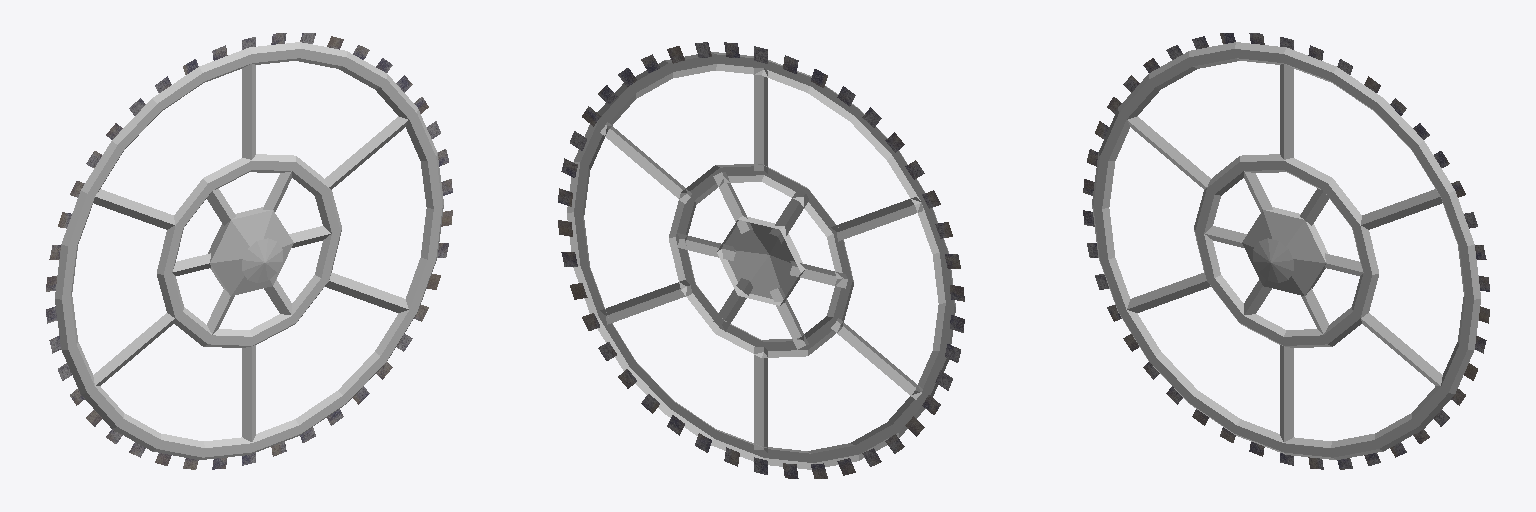
The picture shows the model from 3 angles: view 1: azimuth 30°, elevation 25°; view 2: azimuth 150°, elevation 25°; view 3: azimuth 330°, elevation 25°; orthographic projection.
Parts seen in each view (by area): view 1: Plane; view 2: Plane; view 3: Plane.
Part boxes in pixels (x1,y1,x2,y2): Plane: (46,33,452,469); Plane: (558,42,964,478); Plane: (1083,33,1489,469).
Size of the model in its own units: 7.13 by 7.13 by 0.5601.
Materials: 2 (1 with a texture image).